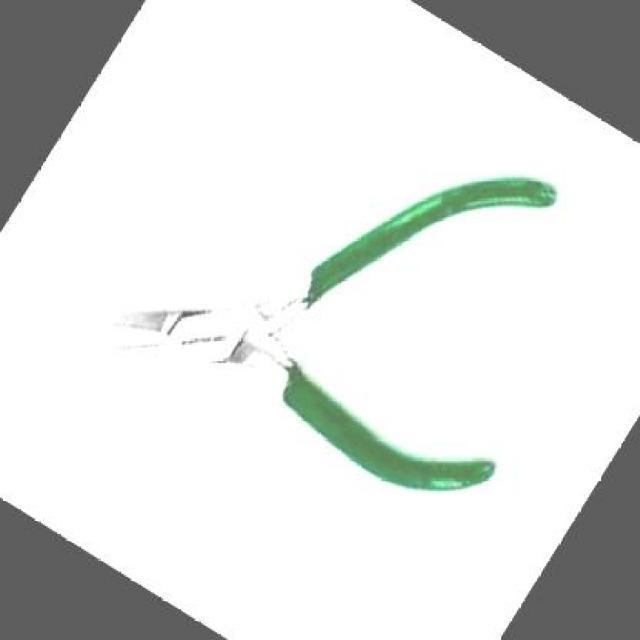pliers: (39, 0, 638, 603)
